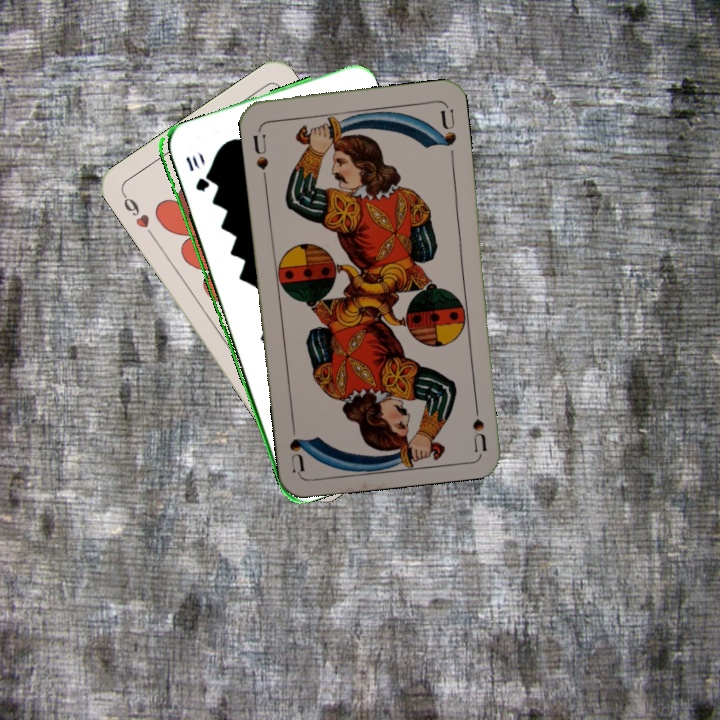G10: (182, 152, 209, 195)
H9: (118, 189, 157, 241)
SU: (249, 130, 271, 184), (469, 393, 489, 452)
